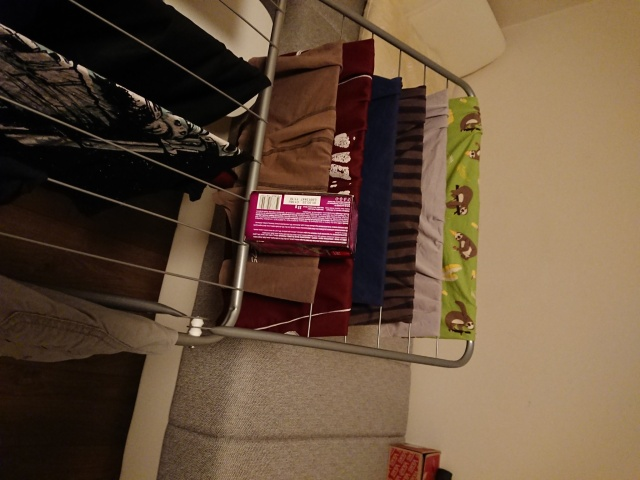Franck Black Currant Tea 60g: (240, 188, 361, 261)
